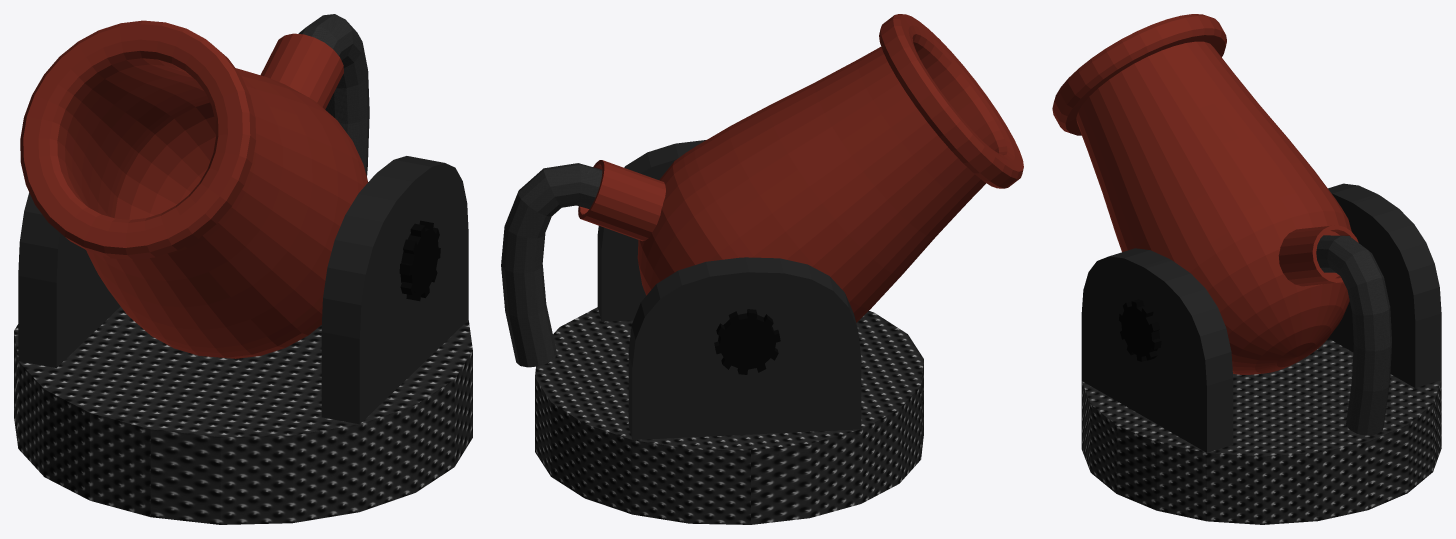
The model's file is TorreEnemiga3.fbx.
The picture shows the model from 3 angles, left to right: view 1: azimuth 30°, elevation 25°; view 2: azimuth 150°, elevation 25°; view 3: azimuth 270°, elevation 25°; orthographic projection. The views are drawn at different scales.
Visible parts, largest first — view 1: Object035; view 2: Object035; view 3: Object035.
Part boxes in pixels (left/top/right/bottom): Object035: left=14, top=14, right=472, bottom=524; Object035: left=501, top=14, right=1023, bottom=524; Object035: left=1052, top=14, right=1441, bottom=524.
Bounding box in the file's own units: 123 × 121 × 113.
